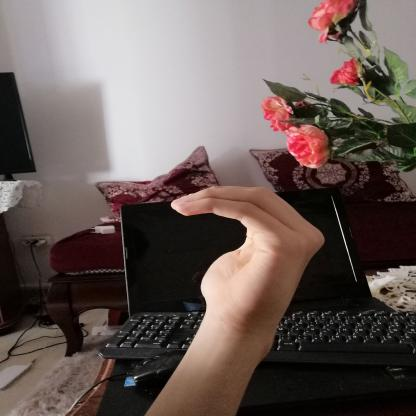HAA: (152, 169, 344, 333)
